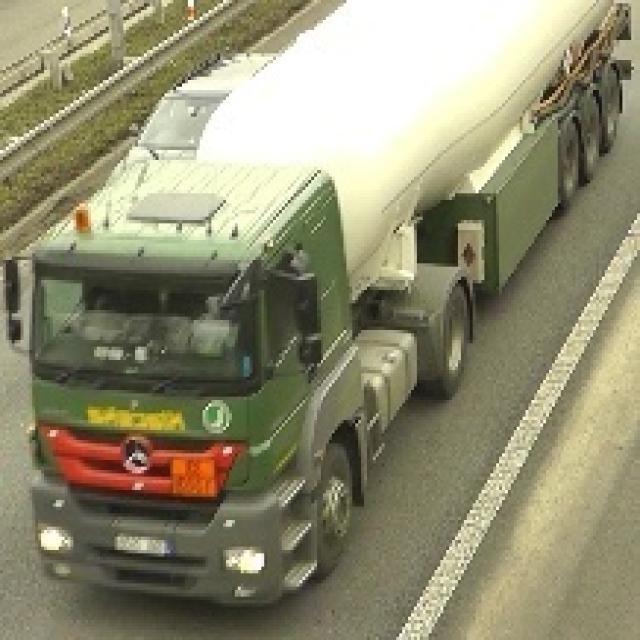TRUCK: (22, 5, 627, 638)
